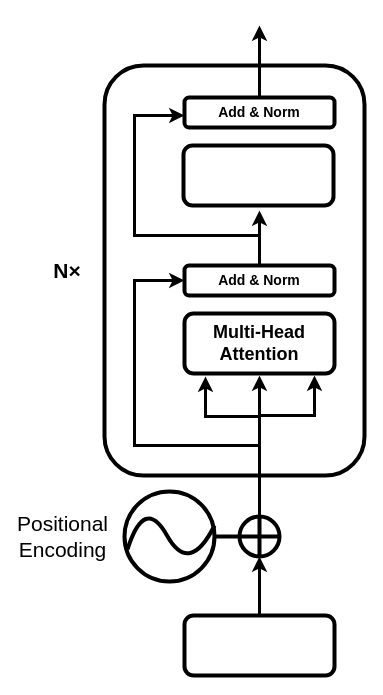
Some shapes in this 383 by 695 pixel diagram are drawn without their labels. The box of each missing label's shape, as (x1, y1, x2, y2) in pixels:
Feed Forward: (181, 143, 335, 207)
Input Embedding: (182, 613, 336, 677)
